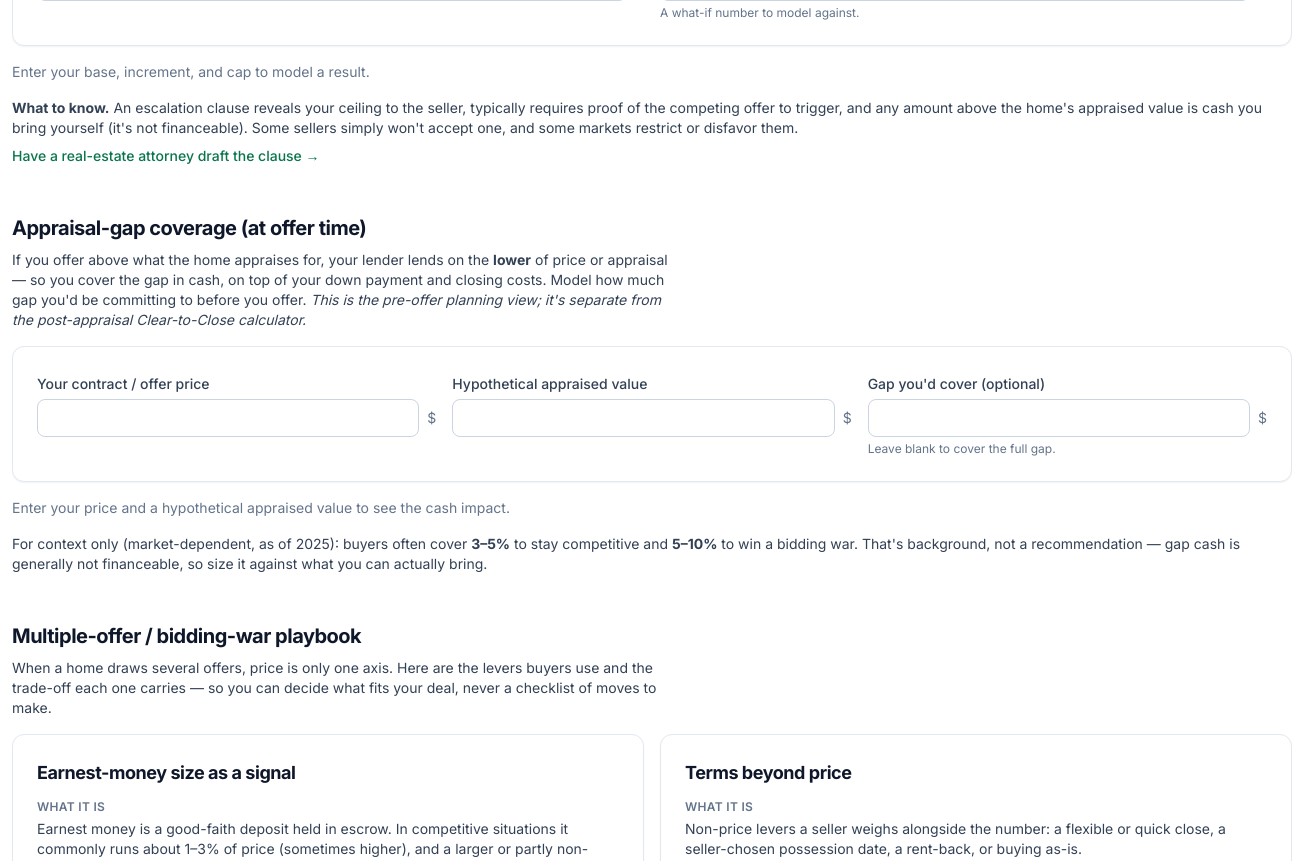
Test: CompetitiveOfferTactics (A3) › shows the appraisal-gap cash impact and a zero-gap empty state
(page scrolled)
Type "410000" into the number field labelled "Your contract / offer price". click: (228, 418)
box: [37,399,419,437]
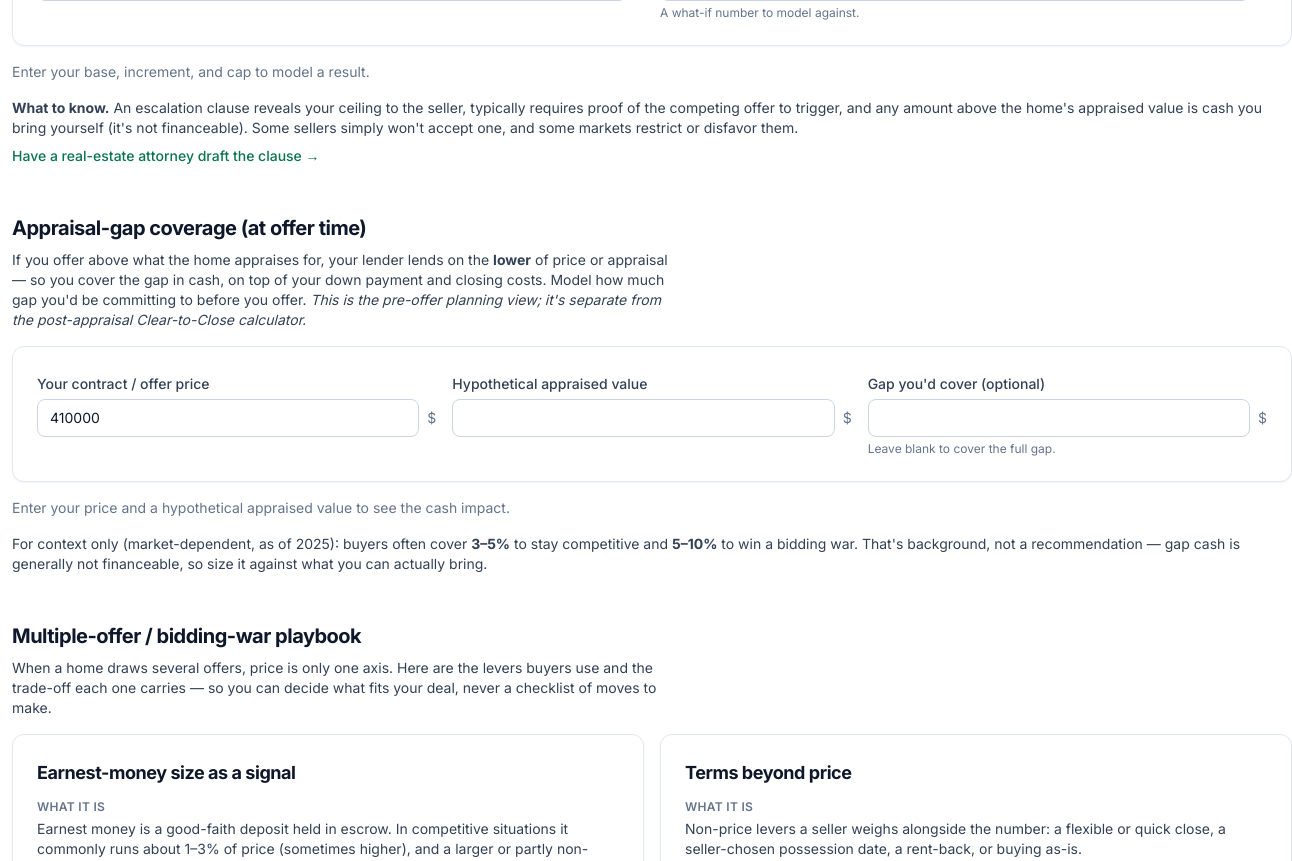
Type "400000" into the number field labelled "Hypothetical appraised value". click: (643, 418)
box: [452,399,835,437]
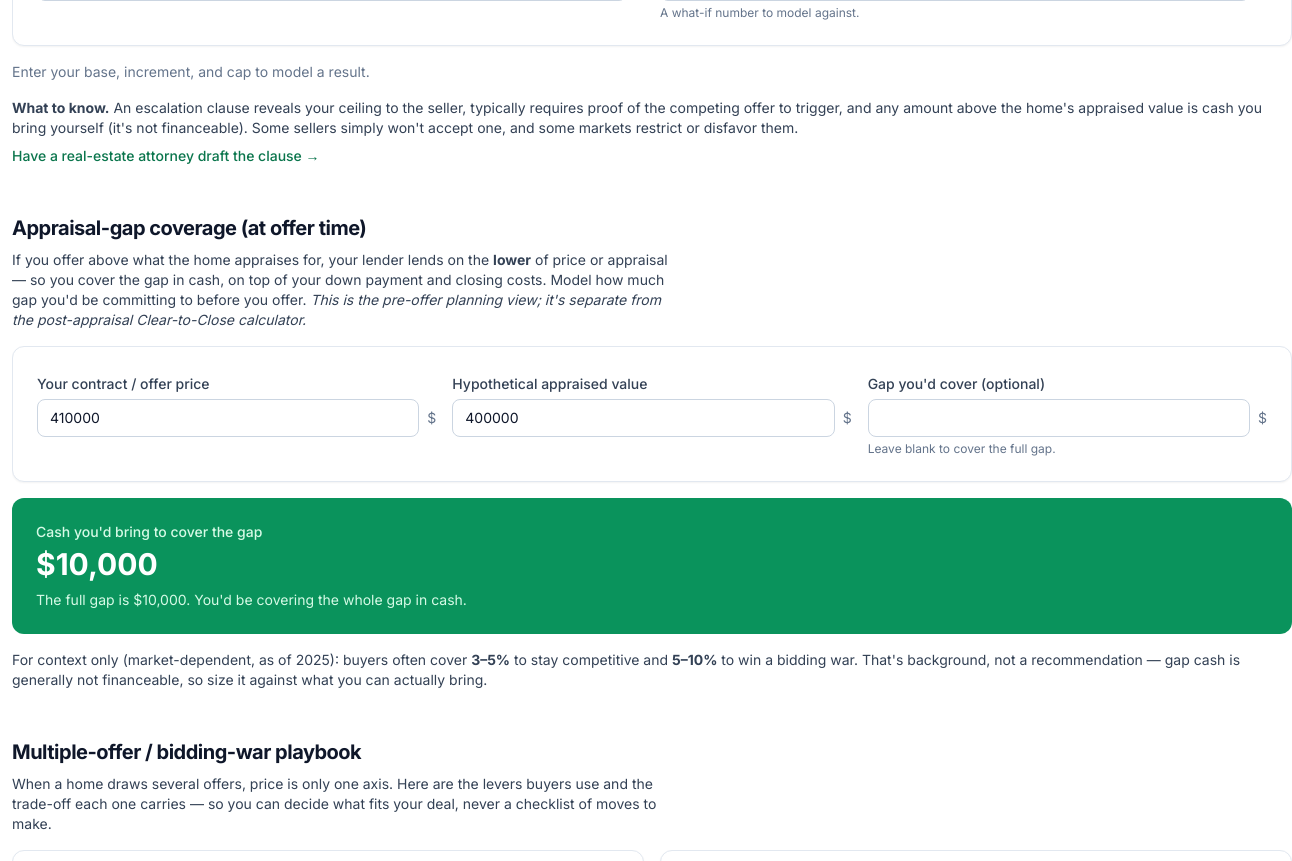
Result: the text "$10,000" is shown at [36,546,158,582]
Note: Raise appraised above contract → no gap to cover.
Replace the text in the number field labelled "Hypothetical appraised value" with "420000". click: (643, 418)
box: [452,399,835,437]
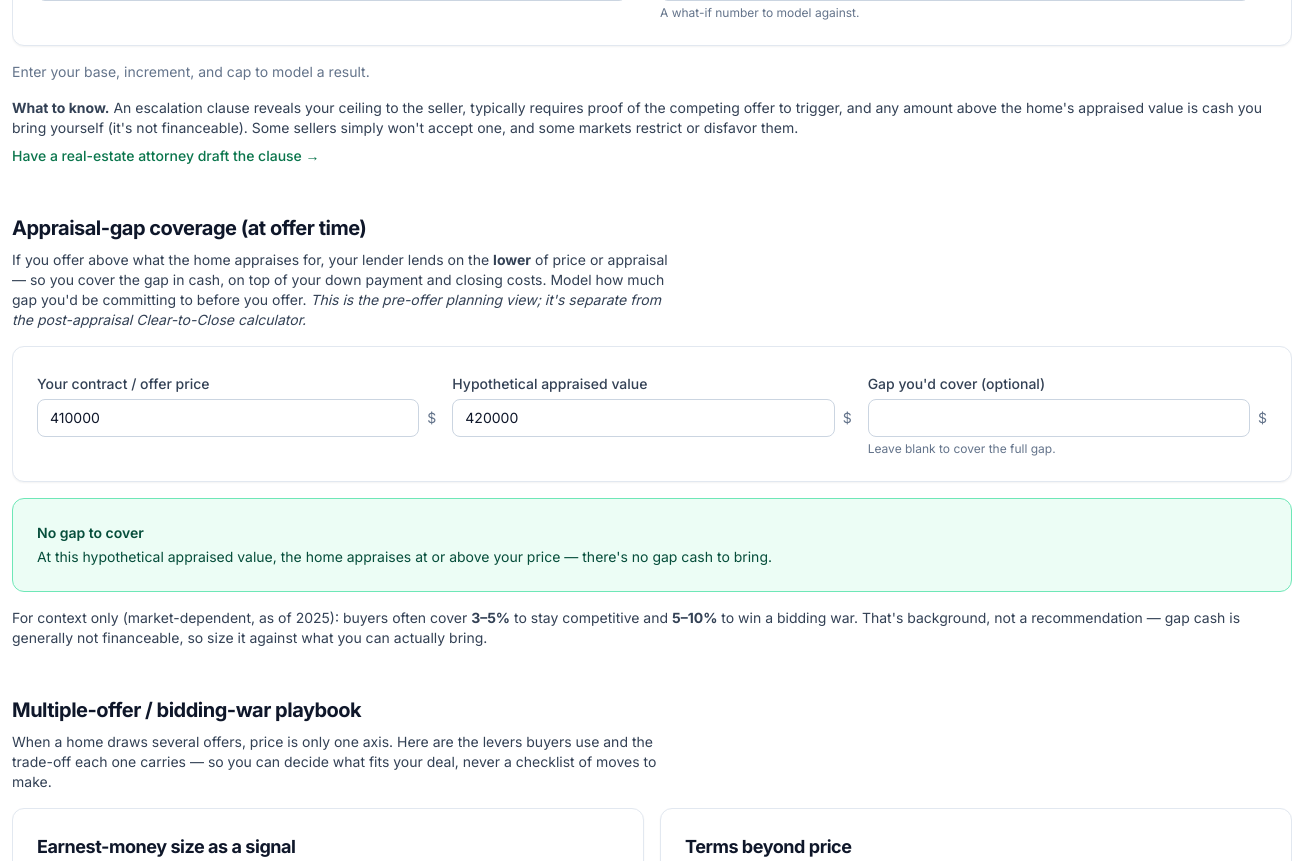
Result: the text "No gap to cover" is shown at [37,524,144,541]
